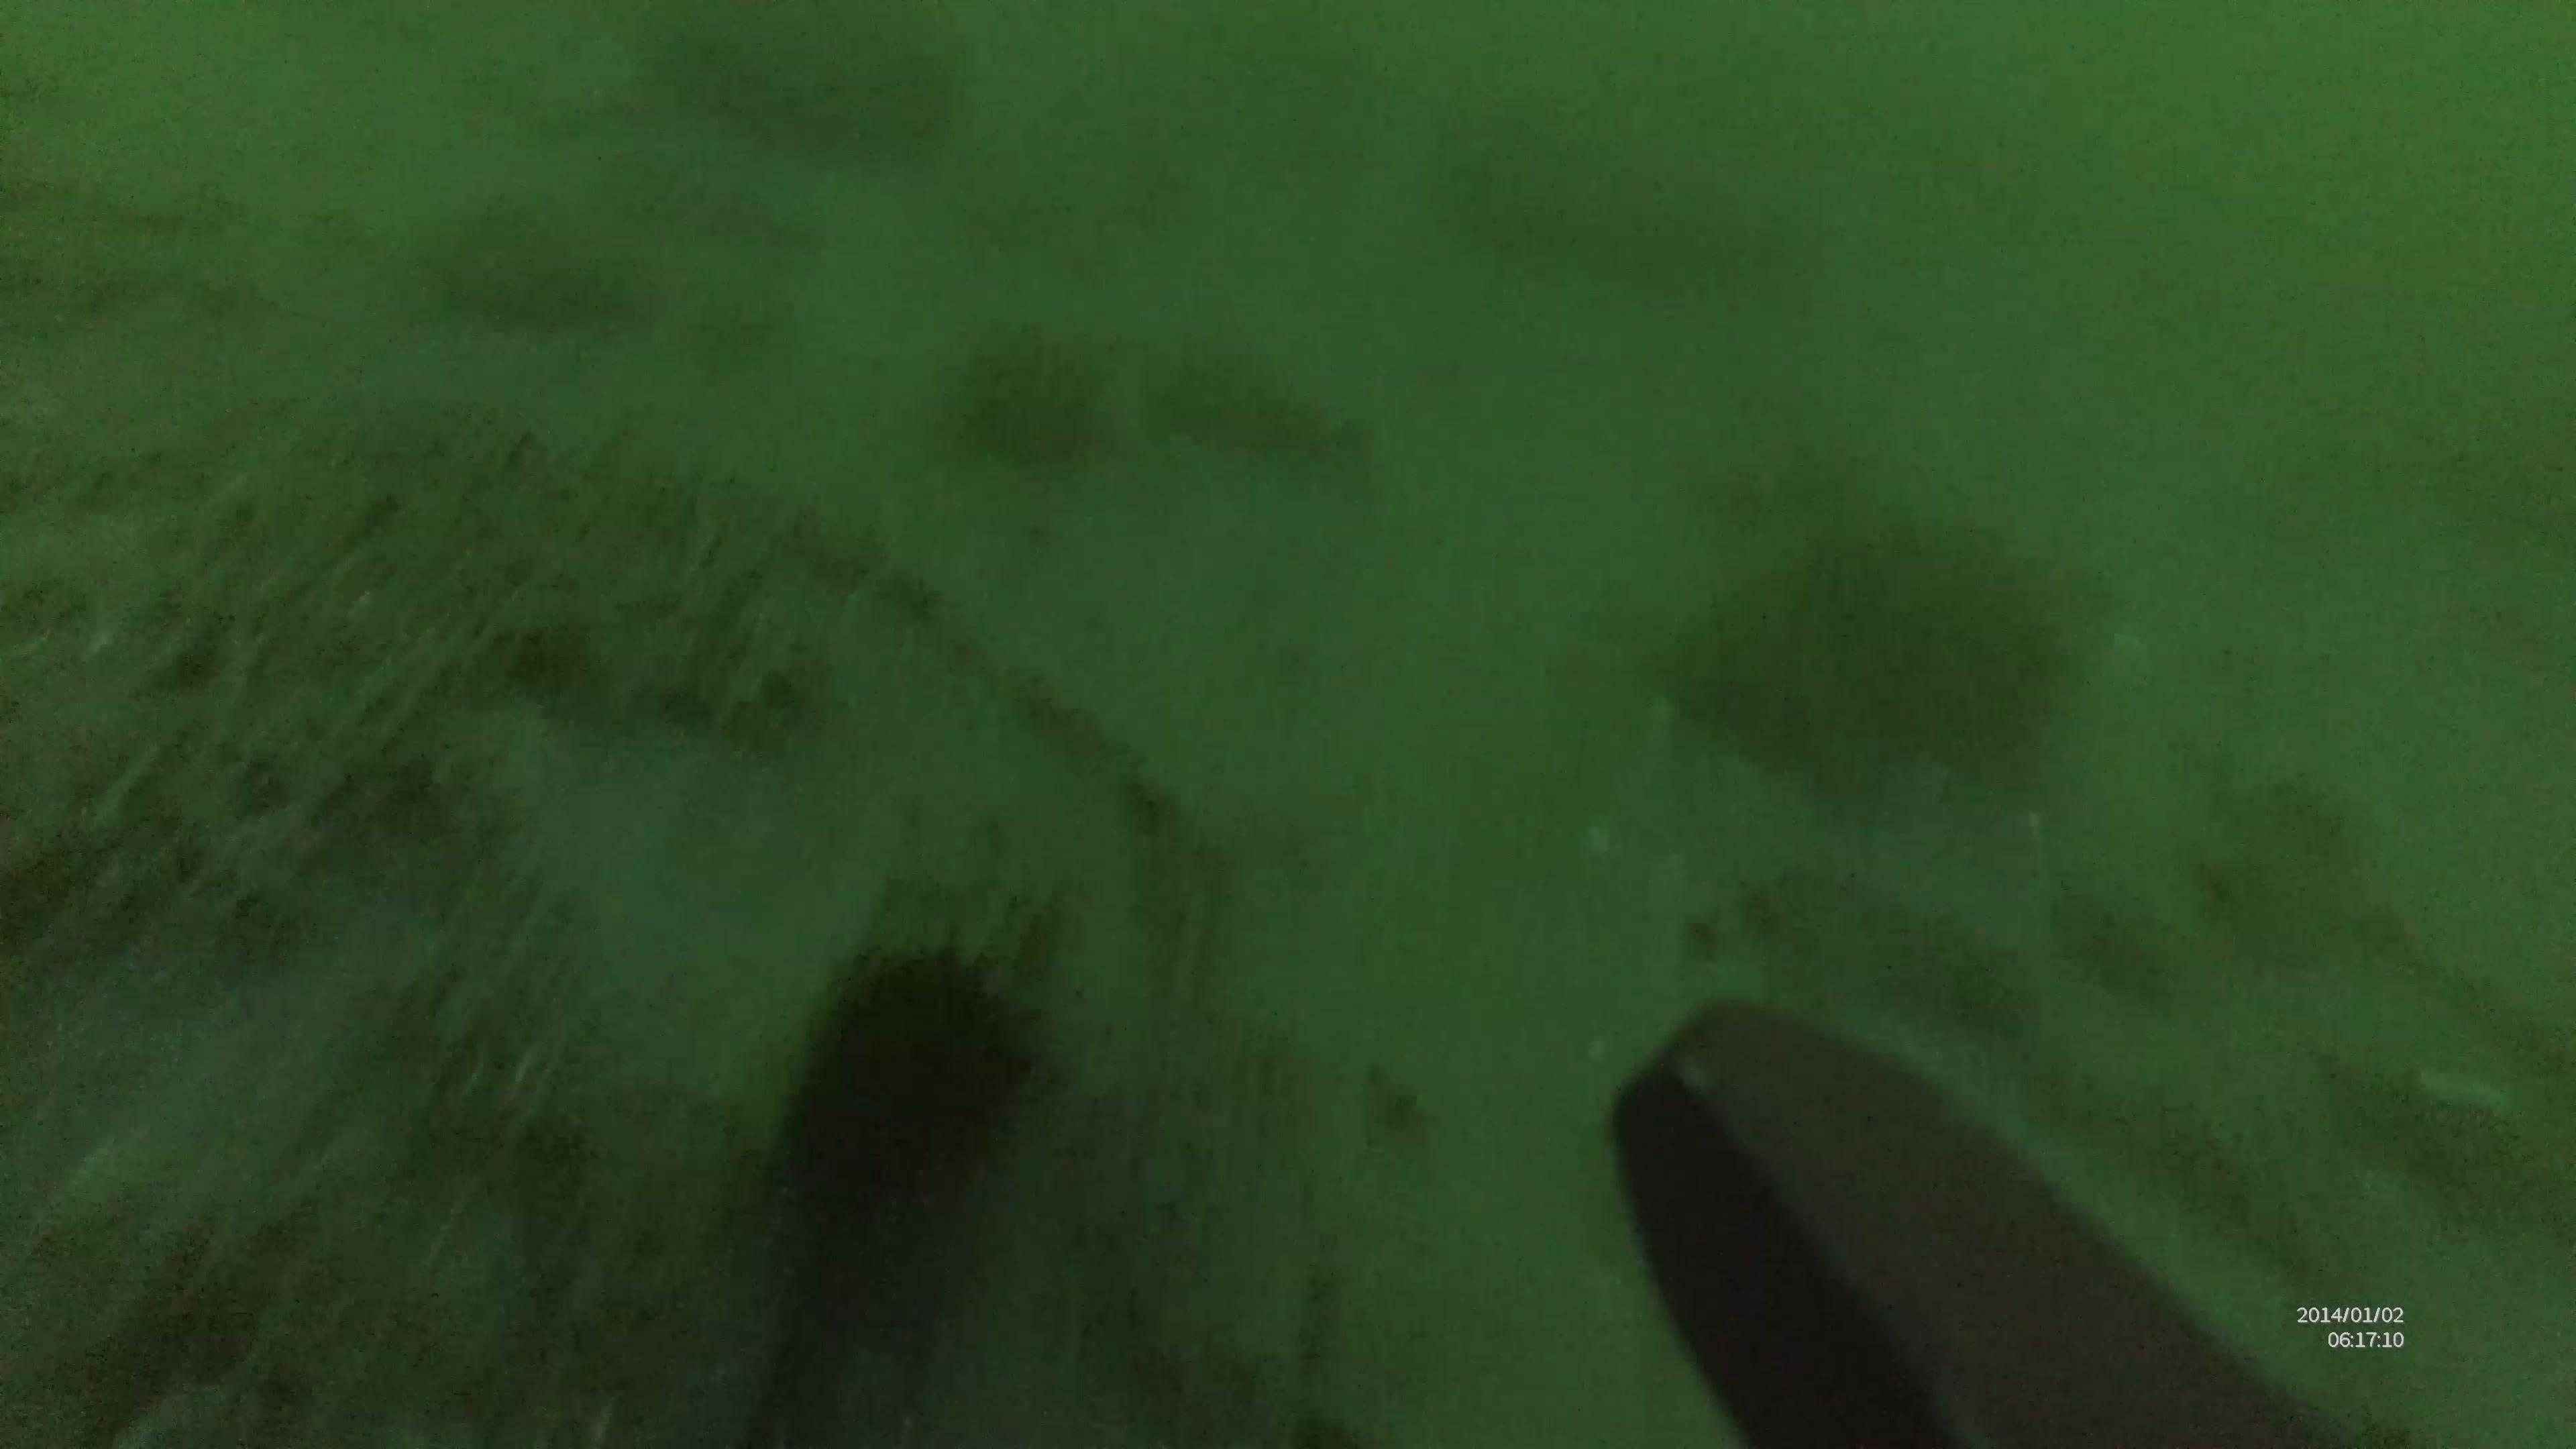echinus: (773, 932, 1049, 1219)
